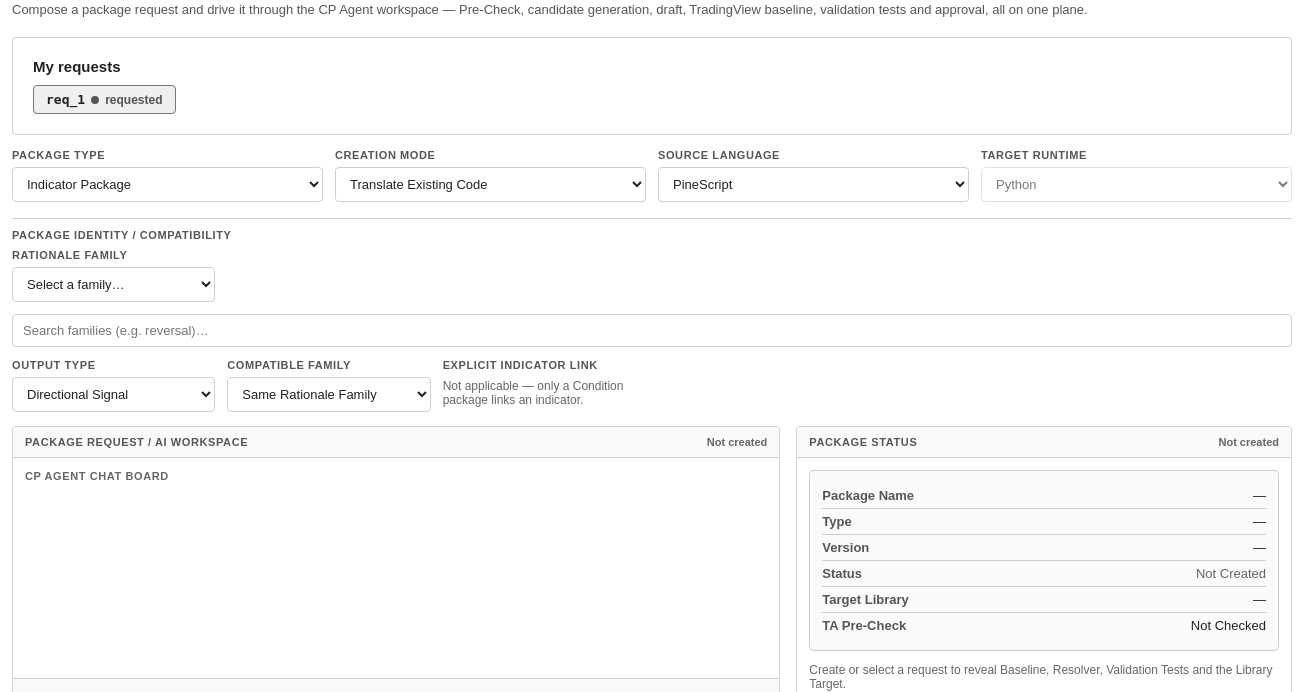
Test: Create Package page › explains a locked C.D.P next to the control when Pre-Check has not passed (R2-12)
Expected: the text "req_1" is shown, 46,92 -> 85,107
Click the button "req_1 requested" at (104, 100), box 33,85 -> 176,114
(page scrolled)
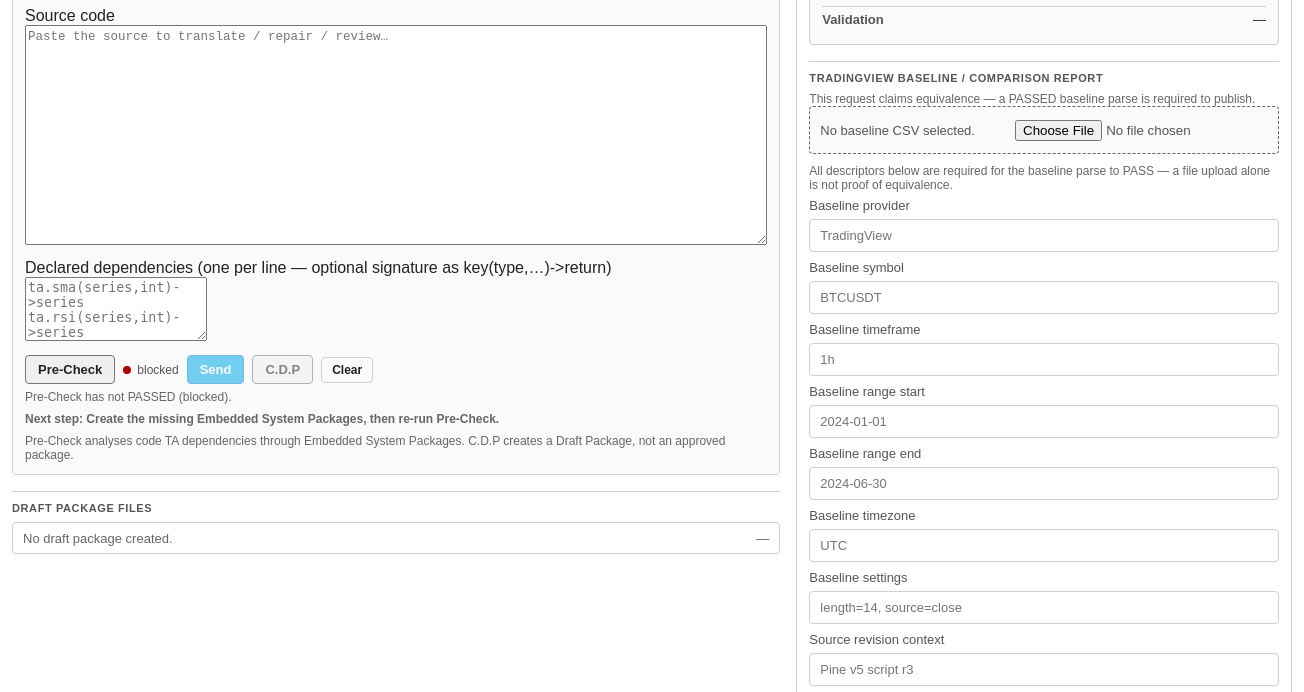
Expected: the button "C.D.P" is disabled, 252,355 -> 313,384
Expected: the text "Pre-Check has not PASSED (blocked)." is shown, 25,390 -> 232,404
